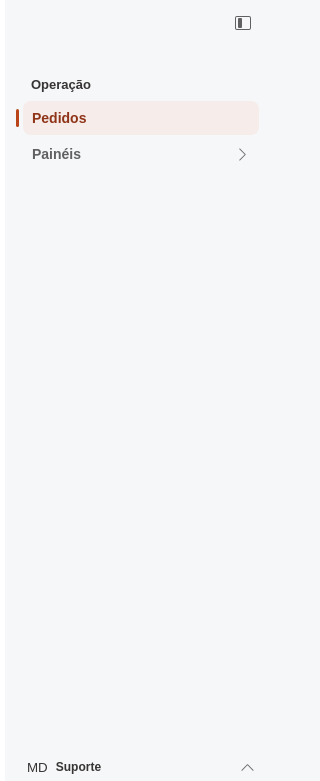
Test case: Sidebar: pilha com vários níveis › conta em cover: entrar num ramo dela e fechá-la mantém a lista do módulo
Click the button "MD Suporte": (141, 767) [23,755,259,779]
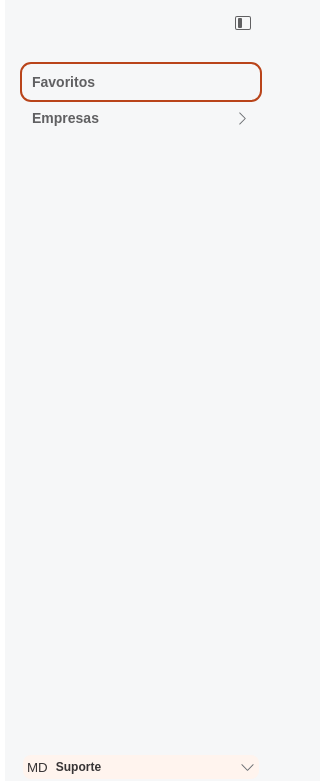
Click the button "Empresas": (141, 118) [23,101,259,135]
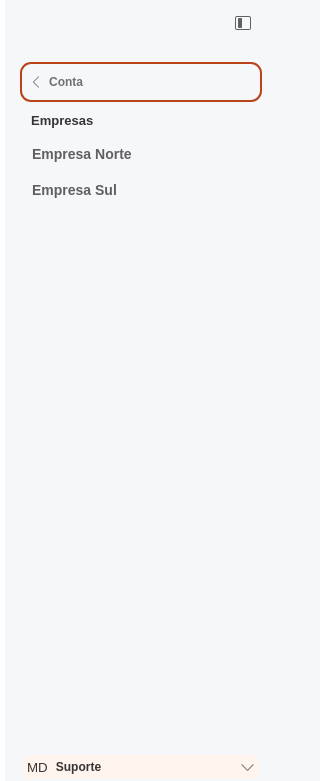
Check: the button "MD Suporte" is expanded, box [23,755,259,779]
Check: the link "Empresa Norte" is shown
Check: the link "Favoritos" is gone
Press Escape in the link "Empresa Norte", box [32,146,132,162]
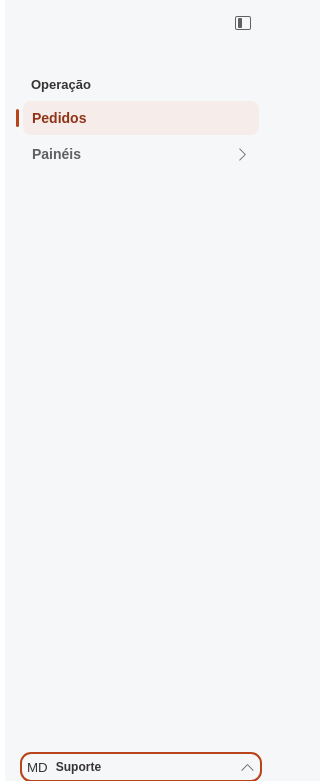
Check: the button "MD Suporte" is collapsed
Check: the link "Pedidos" is shown, box [23,101,259,135]
Click the button "MD Suporte": (141, 767) [23,755,259,779]
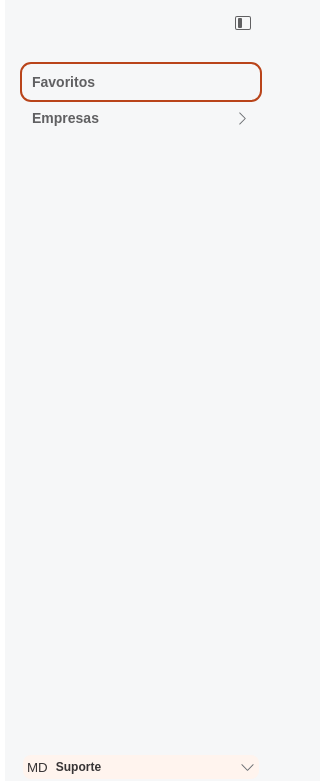
Check: the link "Favoritos" is shown, box [32,74,95,90]
Check: the button "Empresas" is shown, box [23,101,259,135]
